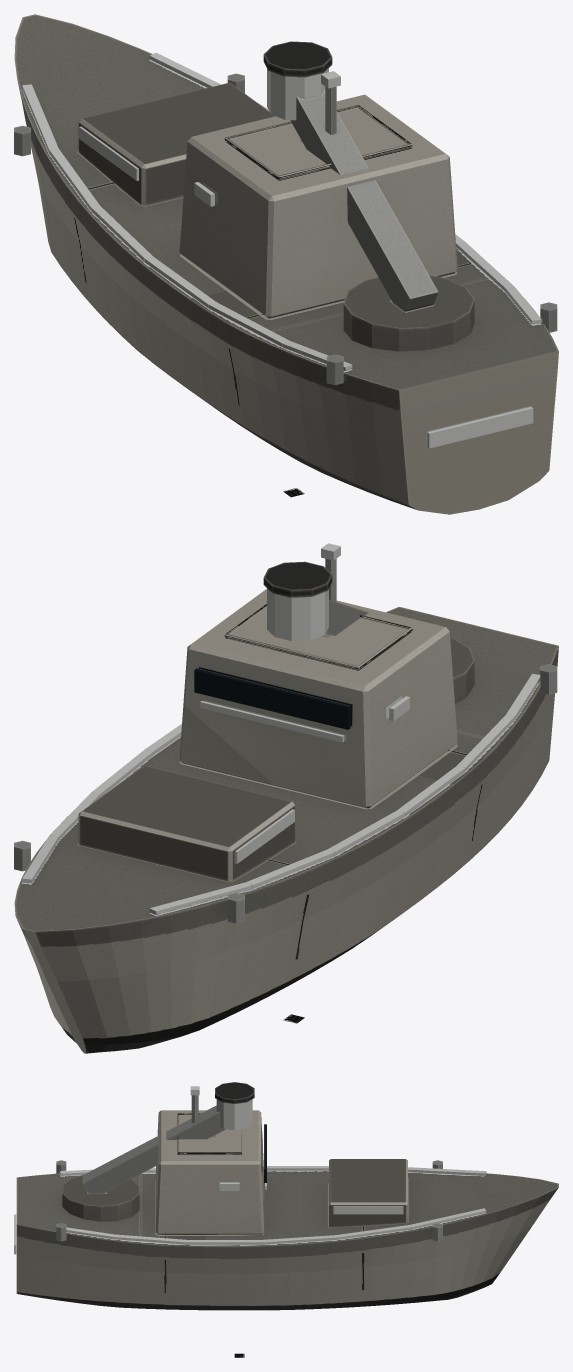
The model's file is ord_tidewright.fbx.
The picture shows the model from 3 angles, top to bottom: view 1: azimuth 30°, elevation 25°; view 2: azimuth 150°, elevation 25°; view 3: azimuth 270°, elevation 25°; orthographic projection. The views are drawn at different scales.
Visible parts, largest first — view 1: base_bar, nano_bar, base_glow_running_bar, nano_glow_power_bar; view 2: base_bar, base_glow_running_bar, nano_bar, nano_glow_power_bar; view 3: base_bar, nano_bar, base_glow_running_bar, nano_glow_power_bar.
Boxes of the visible parts, left/top/right/bottom form: base_bar: left=14, top=14, right=558, bottom=514; nano_bar: left=263, top=41, right=474, bottom=351; base_glow_running_bar: left=22, top=52, right=541, bottom=448; nano_glow_power_bar: left=267, top=68, right=328, bottom=120; base_bar: left=14, top=558, right=558, bottom=1053; base_glow_running_bar: left=22, top=543, right=540, bottom=914; nano_bar: left=263, top=561, right=474, bottom=703; nano_glow_power_bar: left=267, top=588, right=328, bottom=640; base_bar: left=16, top=1095, right=558, bottom=1310; nano_bar: left=62, top=1082, right=254, bottom=1221; base_glow_running_bar: left=14, top=1086, right=486, bottom=1254; nano_glow_power_bar: left=216, top=1099, right=252, bottom=1130.
Size of the model in its own units: 374 by 596 by 1100.
2 materials, 2 textured.
